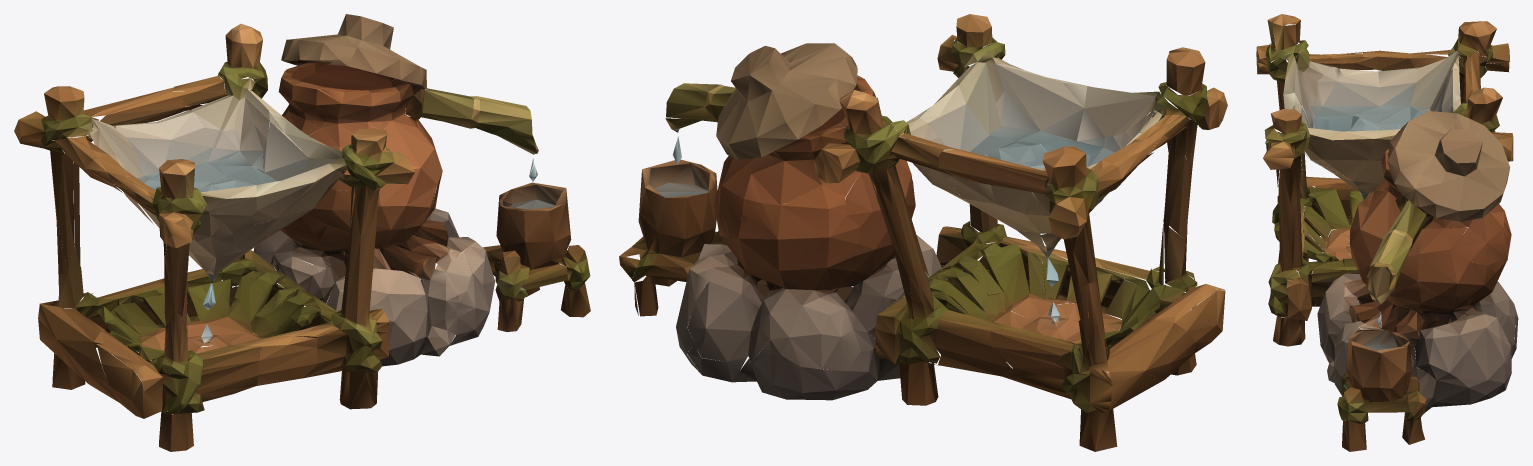
The model's file is building-desalinator.glb.
The picture shows the model from 3 angles, left to right: view 1: azimuth 30°, elevation 25°; view 2: azimuth 150°, elevation 25°; view 3: azimuth 270°, elevation 25°; orthographic projection. The views are drawn at different scales.
Visible parts, largest first — view 1: 0_desalinator; view 2: 0_desalinator; view 3: 0_desalinator.
Boxes of the visible parts, x1,y1,x2,y2 form: 0_desalinator: [14, 14, 590, 451]; 0_desalinator: [619, 14, 1227, 451]; 0_desalinator: [1256, 14, 1518, 451].
Bounding box in the file's own units: 1.92 × 1.09 × 1.03.
